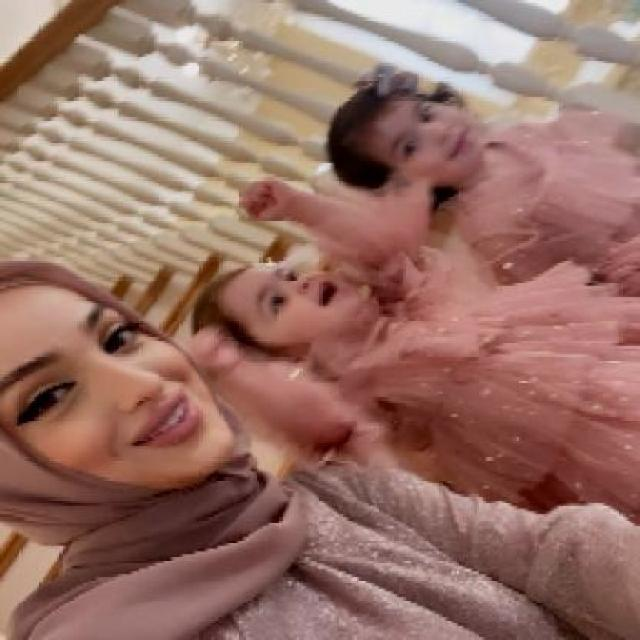child: (185, 172, 640, 516), (303, 60, 640, 297)
